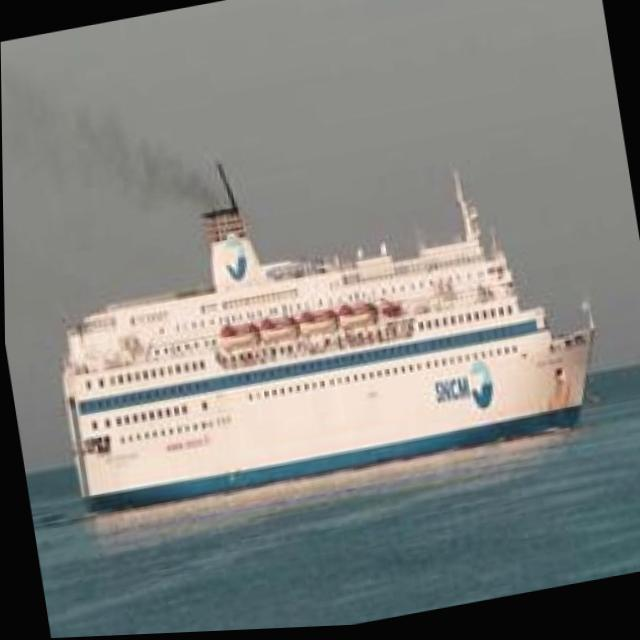ship2: (55, 159, 594, 514)
